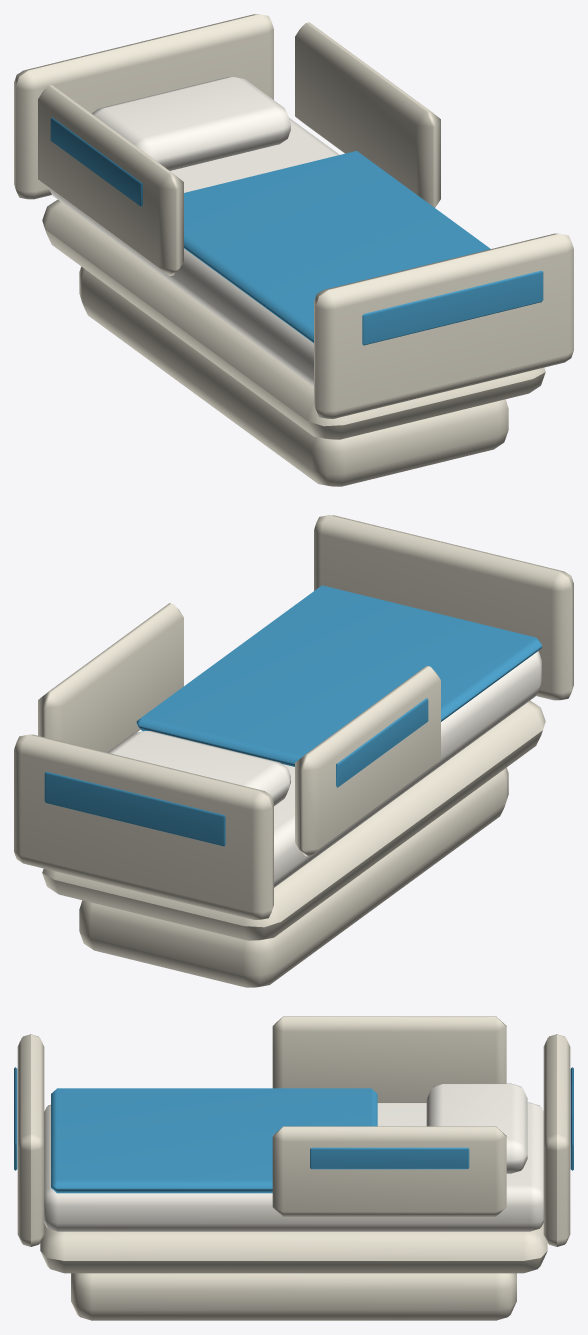
Rendered from RecoveryBed_advanced.glb.
3 renders of one model, top to bottom at view 1: azimuth 30°, elevation 25°; view 2: azimuth 150°, elevation 25°; view 3: azimuth 270°, elevation 25°, orthographic. The views are drawn at different scales.
Parts seen in each view (by area): view 1: Static_ivory, Static_blue, Static_white; view 2: Static_ivory, Static_blue, Static_white; view 3: Static_ivory, Static_blue, Static_white.
Boxes of the visible parts, box(x1,y1,x2,y2) form: Static_ivory: box(14, 14, 573, 486); Static_blue: box(50, 117, 543, 345); Static_white: box(49, 77, 339, 386); Static_ivory: box(14, 515, 573, 987); Static_blue: box(44, 585, 541, 846); Static_white: box(107, 651, 541, 887); Static_ivory: box(17, 1016, 570, 1320); Static_blue: box(14, 1067, 573, 1193); Static_white: box(44, 1083, 543, 1231).
Bounding box in the file's own units: 1.1 × 0.895 × 2.11.
